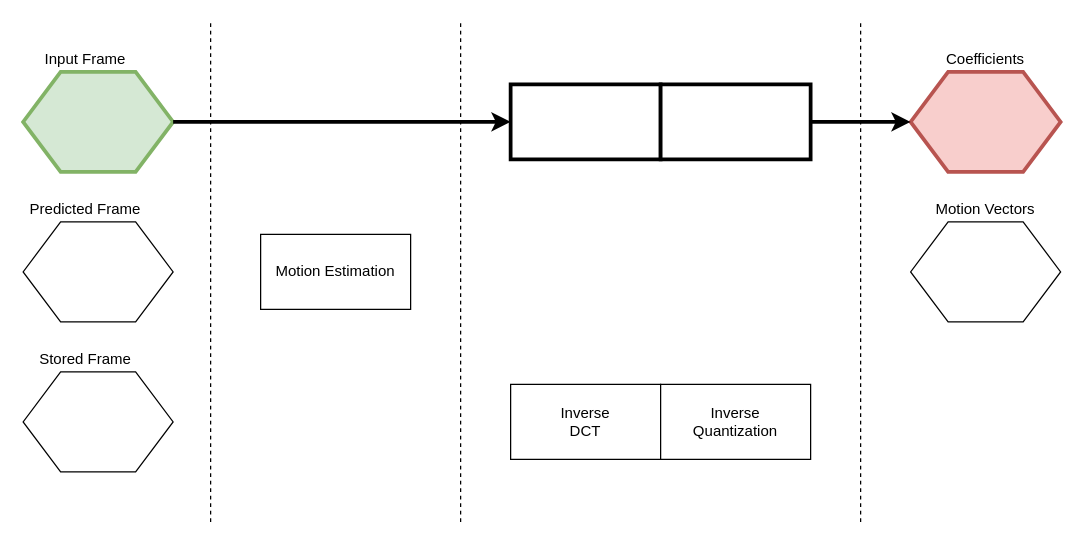
This 1084x545 diagram has some shape labels left out. The shapes that lost their labels are listed below. From the top down, each one's centre as x and y in pixels, then its label:
At [585,121]: "DCT".
At [735,121]: "Quantization".
